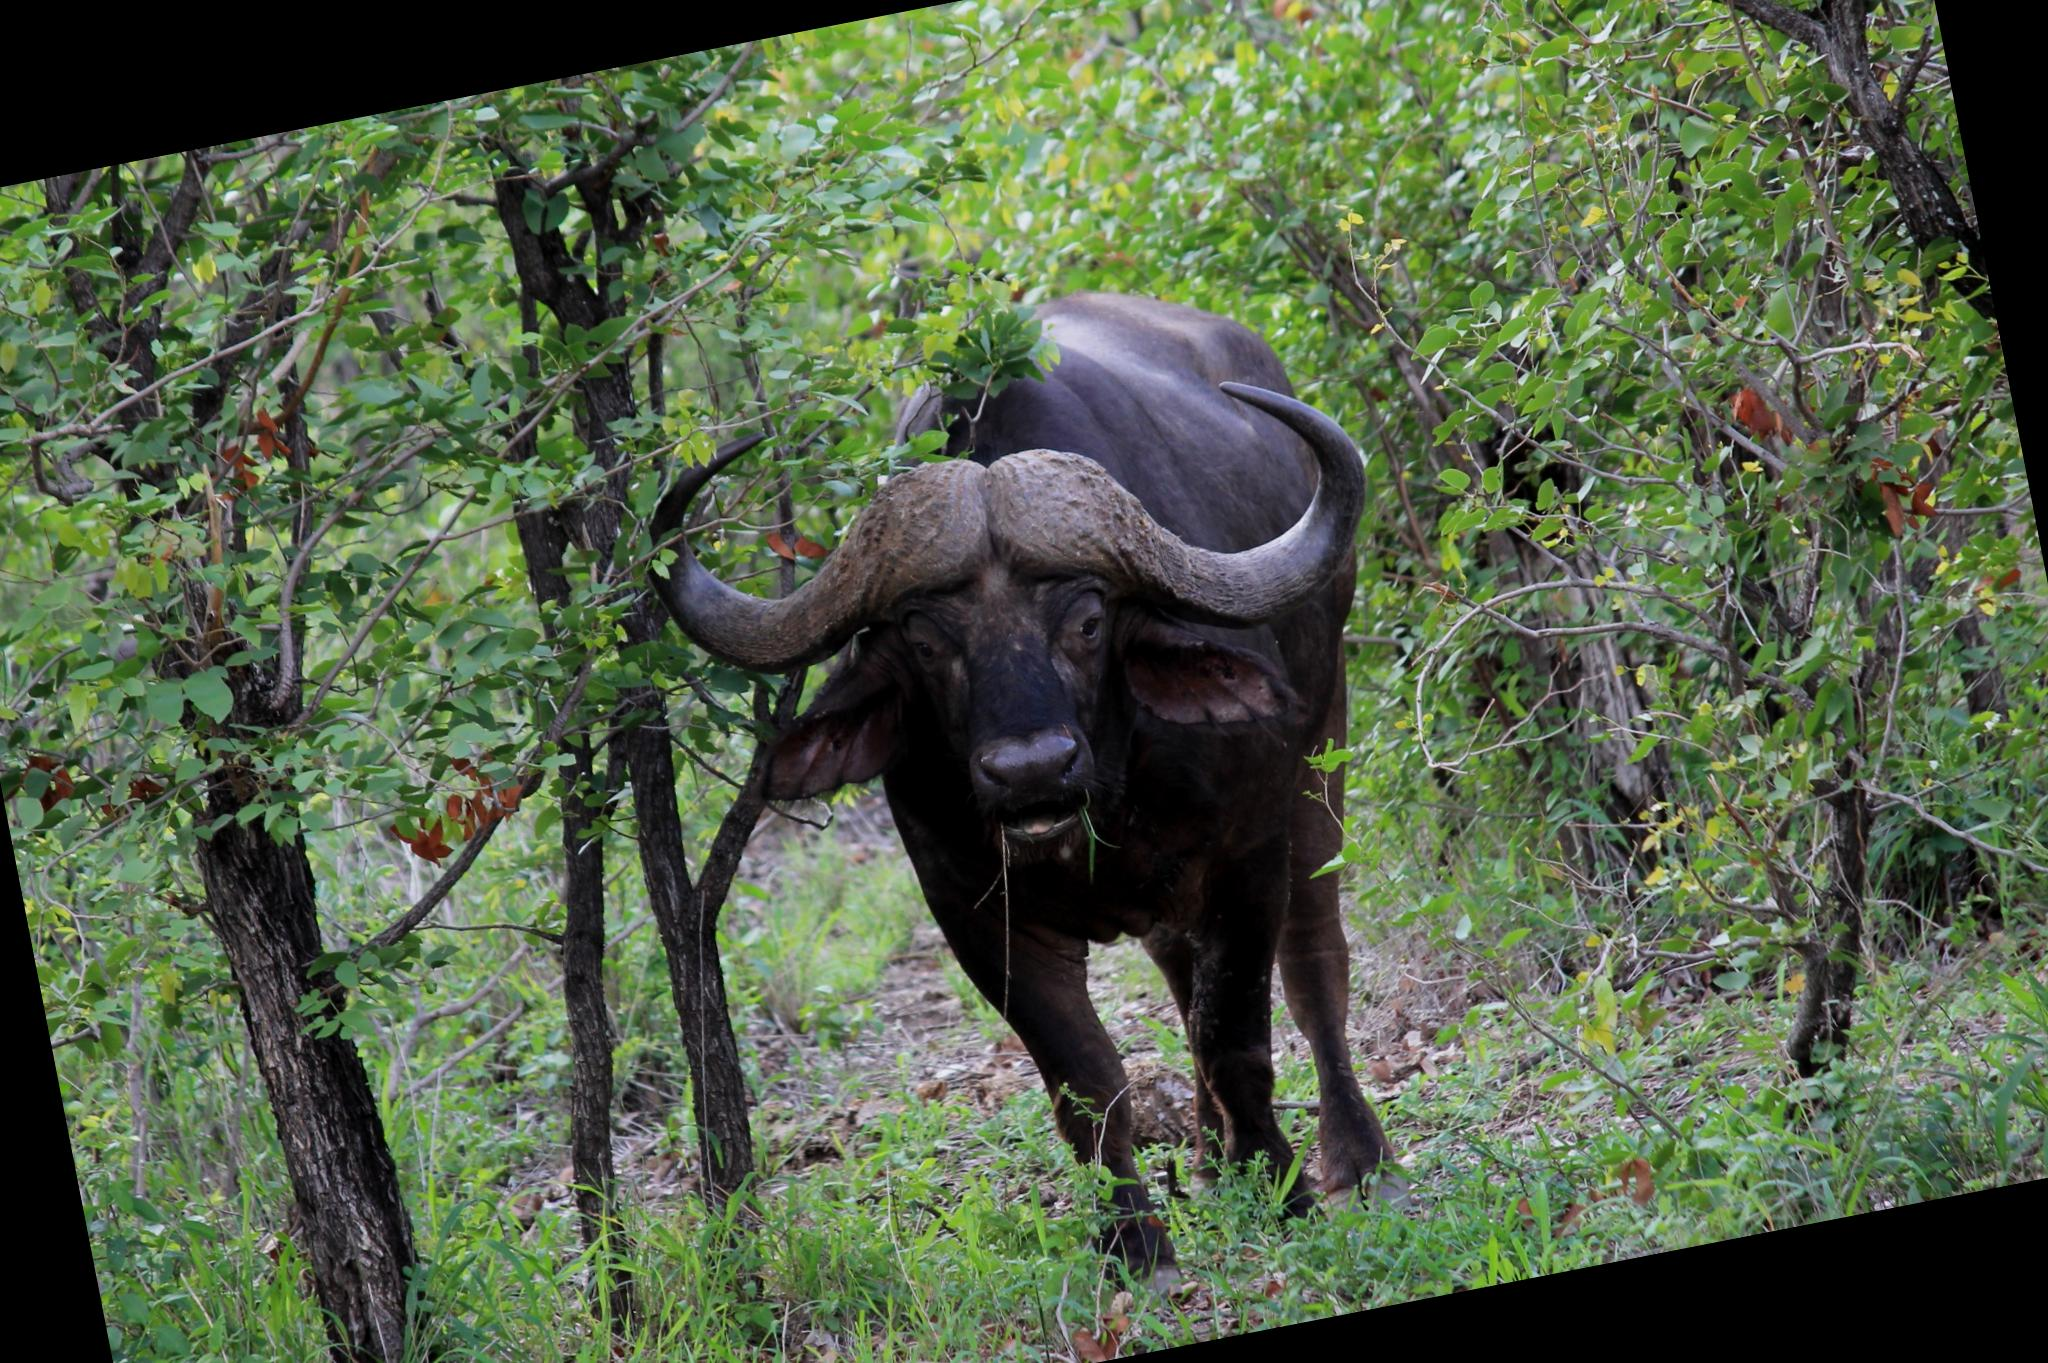Buffalo: (363, 0, 1811, 1363)
